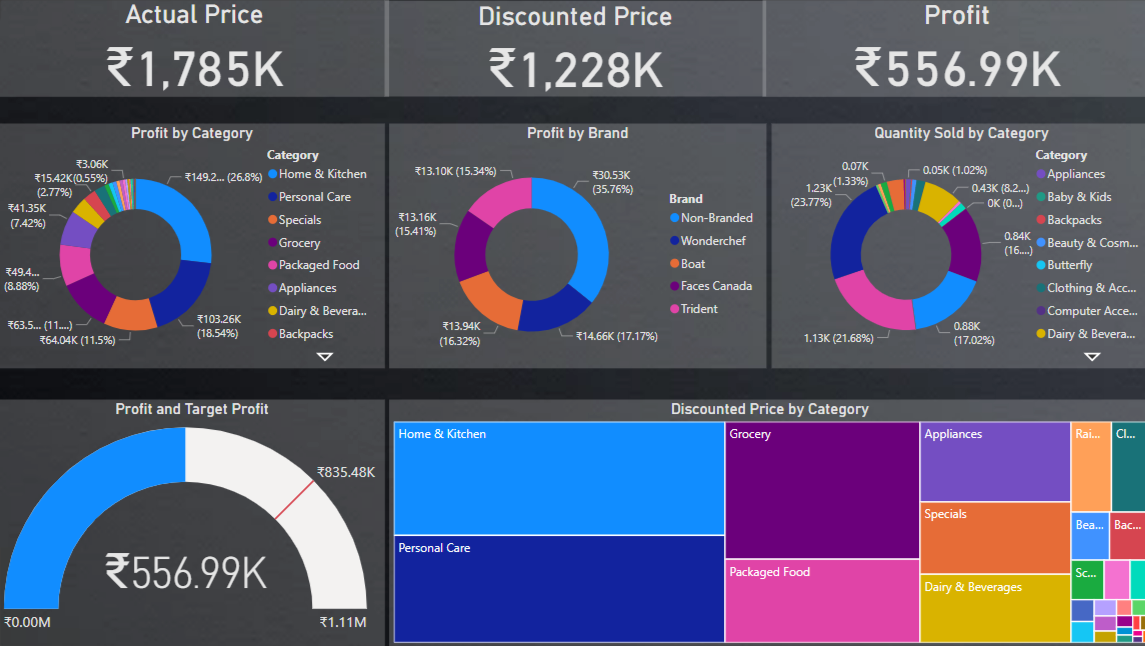

The page's visual inventory and layout, read from the dashboard file:
{"tool":"powerbi","page":{"name":"Page 1","canvas":[1280,720],"ordinal":0},"visuals":[{"type":"card","title":"Profit","fields":{"Values":["Sum(DMart.Profit)"]},"box":[847.8,0,432,108.4],"z":0},{"type":"card","title":"Actual Price","fields":{"Values":["Sum(DMart.Price)"]},"box":[0,0,433.6,108.4],"z":1000},{"type":"card","title":"Discounted Price","fields":{"Values":["Sum(DMart.DiscountedPrice)"]},"box":[428.8,1.6,423.9,106.8],"z":2000},{"type":"donutChart","fields":{"Y":["Sum(DMart.Profit)"],"Category":["DMart.Category"]},"box":[0,139.1,428.8,271.8],"z":3000},{"type":"donutChart","fields":{"Y":["Sum(DMart.Profit)"],"Category":["DMart.Brand"]},"box":[433.6,139.1,419.1,271.8],"z":4000},{"type":"donutChart","title":"Quantity Sold by Category","fields":{"Y":["CountNonNull(DMart.Quantity)"],"Series":["DMart.Category"]},"box":[857.5,139.1,422.3,271.8],"z":5000},{"type":"gauge","fields":{"TargetValue":["DMart.Target Profit"],"Y":["Sum(DMart.Profit)"]},"box":[0,444.9,428.8,275.1],"z":5001},{"type":"treemap","title":"Discounted Price by Category","fields":{"Values":["Sum(DMart.DiscountedPrice)"],"Group":["DMart.Category"]},"box":[433.6,444.9,846.2,275.1],"z":5002}]}

Visuals, with their boxes in screenshot pixels (x1, y1, x2, y2), scaled from the page's 1280x720 canvas onto the 1145x646 screenshot:
"Profit" card: detection(758, 0, 1144, 97)
"Actual Price" card: detection(0, 0, 388, 97)
"Discounted Price" card: detection(384, 1, 763, 97)
donutChart - Sum(DMart.Profit) x DMart.Category: detection(0, 125, 384, 369)
donutChart - Sum(DMart.Profit) x DMart.Brand: detection(388, 125, 763, 369)
"Quantity Sold by Category" donutChart: detection(767, 125, 1144, 369)
gauge - DMart.Target Profit x Sum(DMart.Profit): detection(0, 399, 384, 645)
"Discounted Price by Category" treemap: detection(388, 399, 1144, 645)
